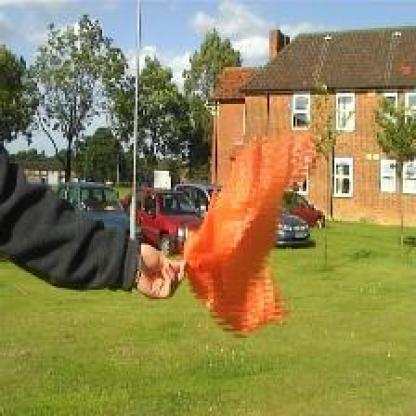other: (182, 126, 303, 335)
